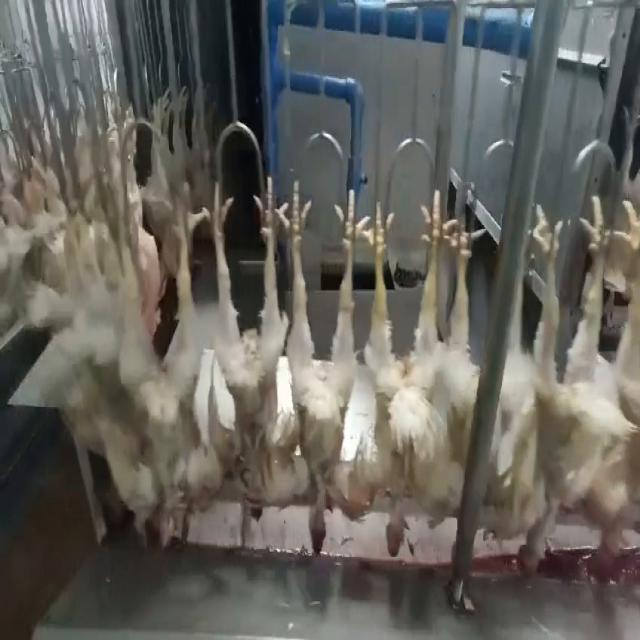chicken: (497, 203, 604, 582), (275, 179, 368, 559), (365, 186, 446, 560), (137, 174, 209, 552), (209, 167, 277, 522), (581, 198, 639, 582), (440, 214, 484, 522)
